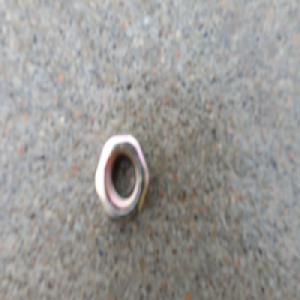Nut: (92, 131, 151, 226)
